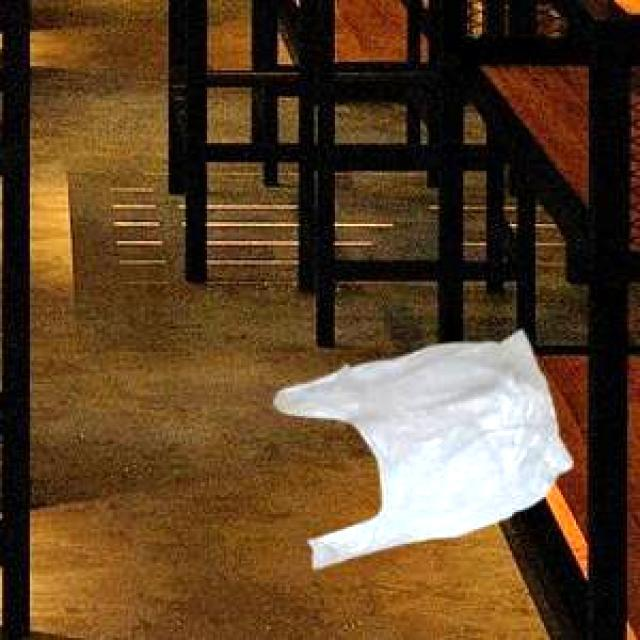Plastic_Bag: (272, 328, 569, 564)
